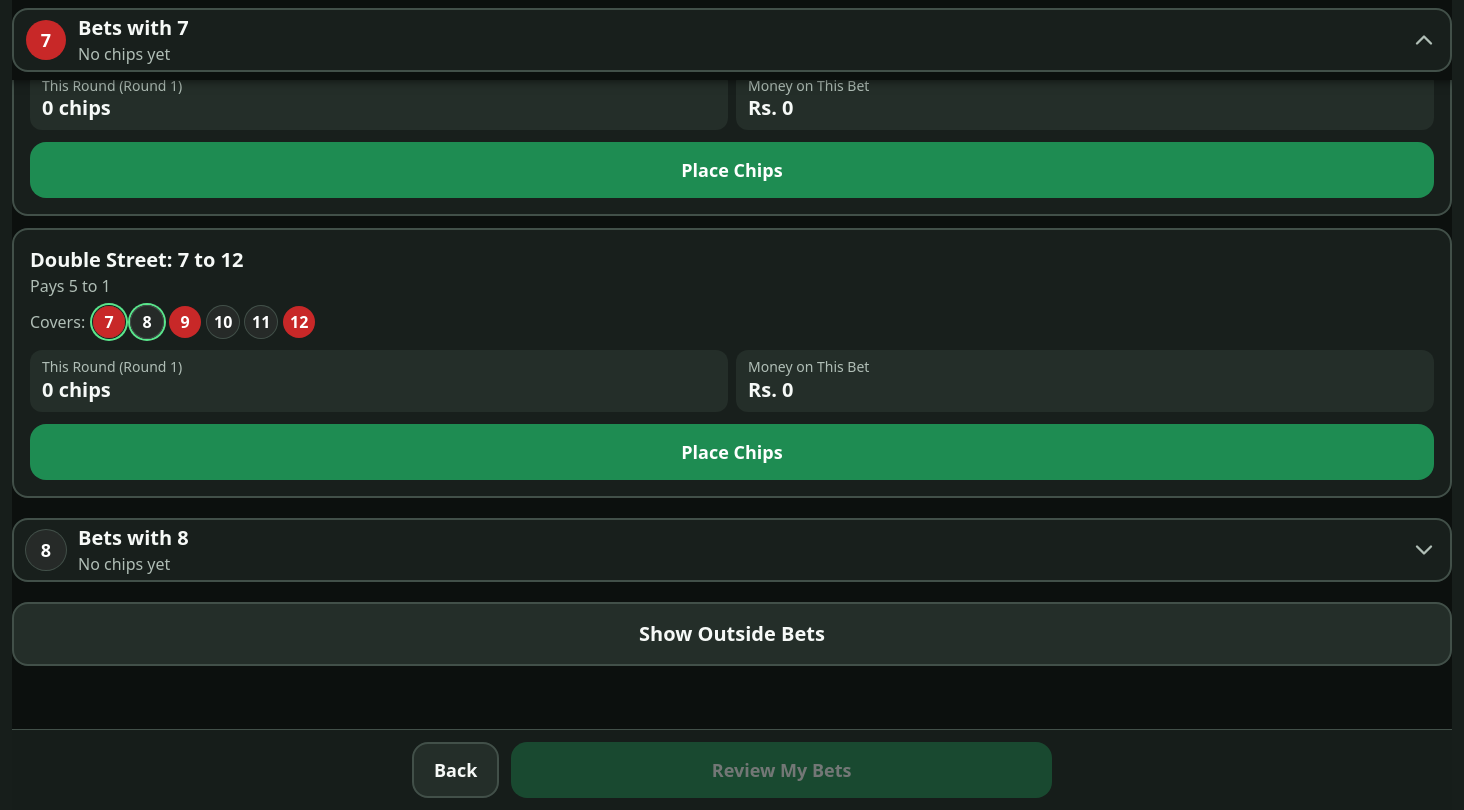
Test case: each main number folds open and closed › starts with only the first number open, and each header opens and closes its own places
The image size is (1464, 810).
(page scrolled)
Expected: the text "Straight: 8" is not shown
Click the button "8 Bets with 8 No chips yet" at (46, 550), box 12,518 -> 1452,582
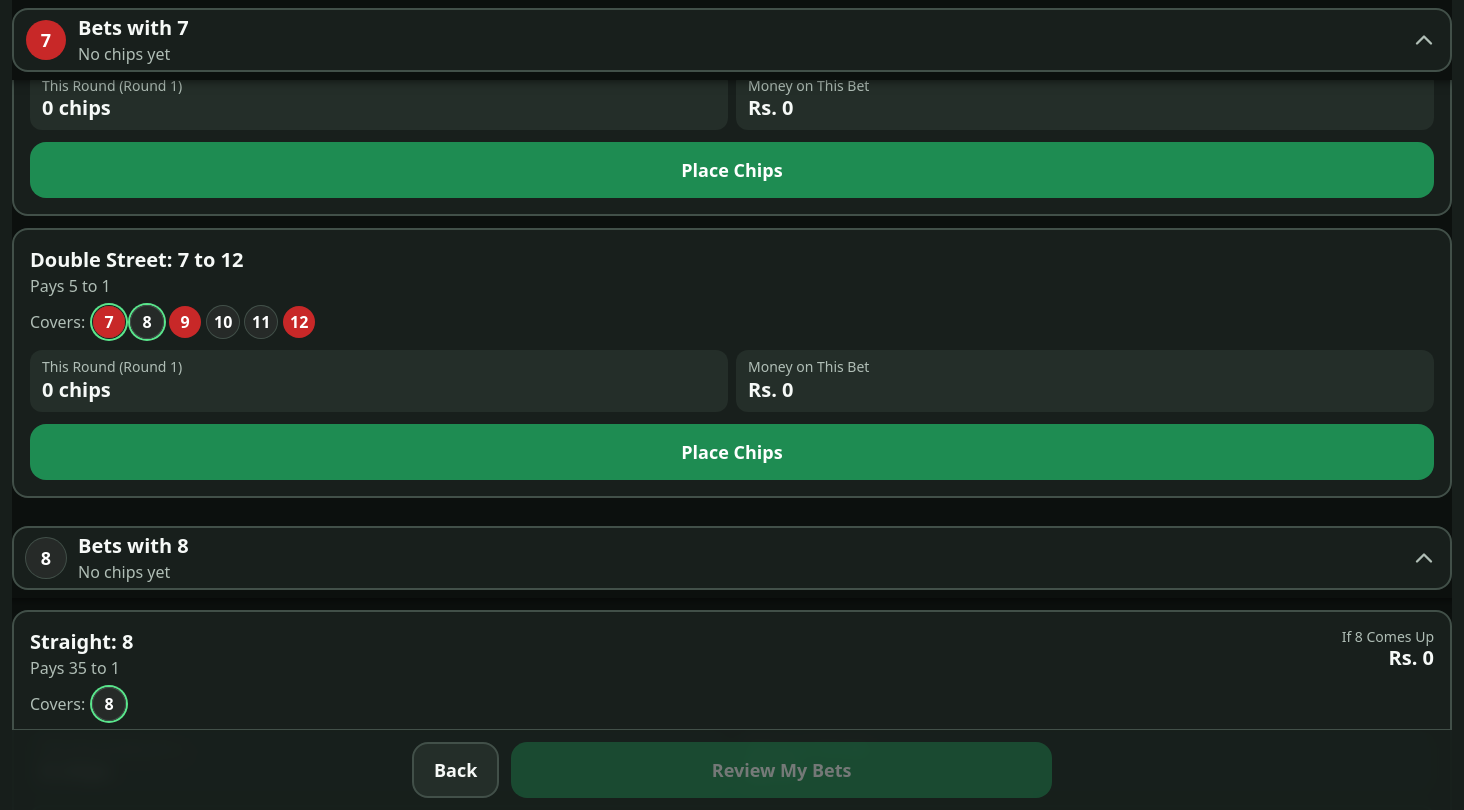
Result: the heading "Straight: 8" is shown at 30,628 -> 133,656
Click the button "7 Bets with 7 No chips yet" at (46, 40), box 12,8 -> 1452,72
(page scrolled)
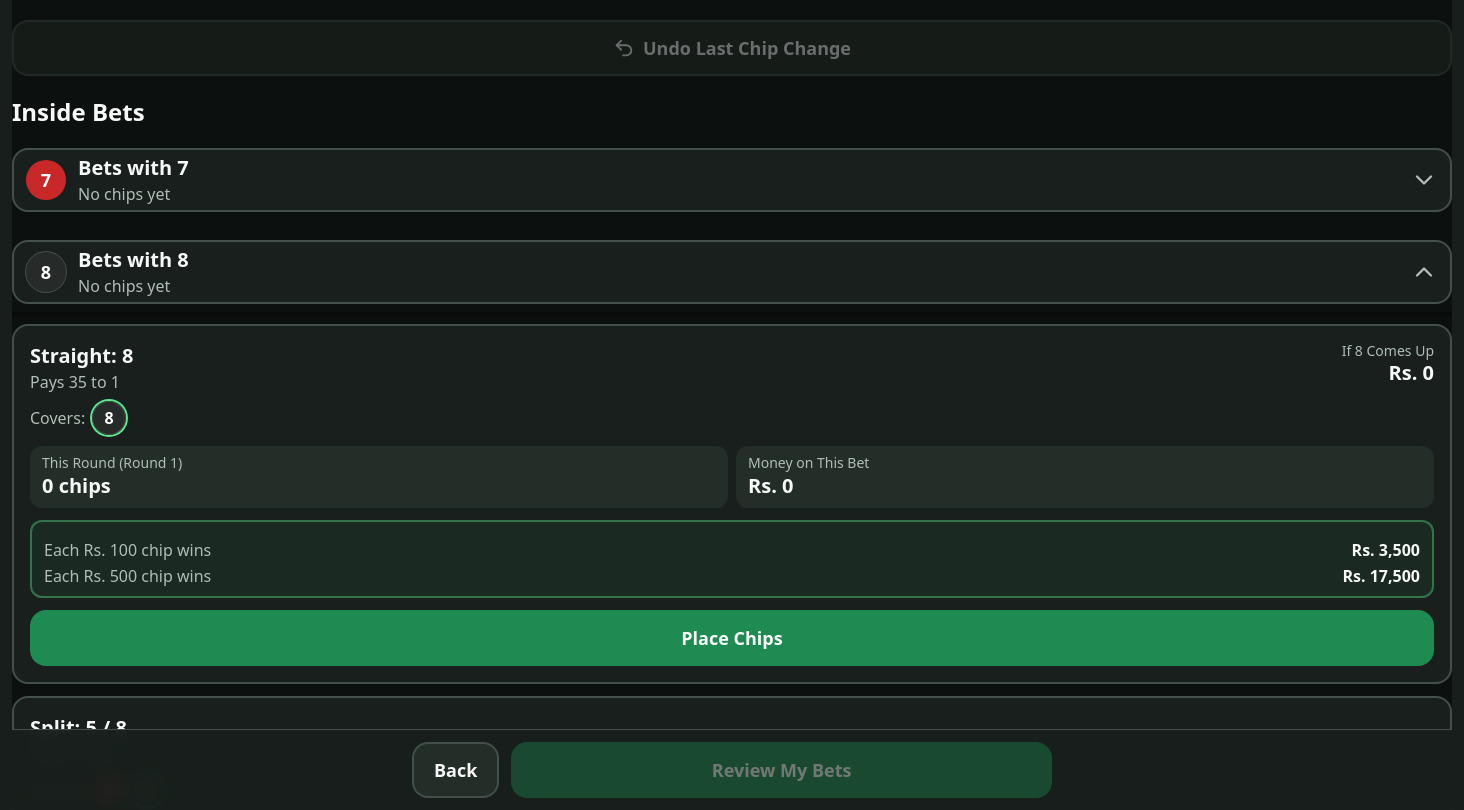
Result: the heading "Straight: 8" is shown at 30,342 -> 133,370
Result: the button "7 Bets with 7 No chips yet" is collapsed at 12,148 -> 1452,212
